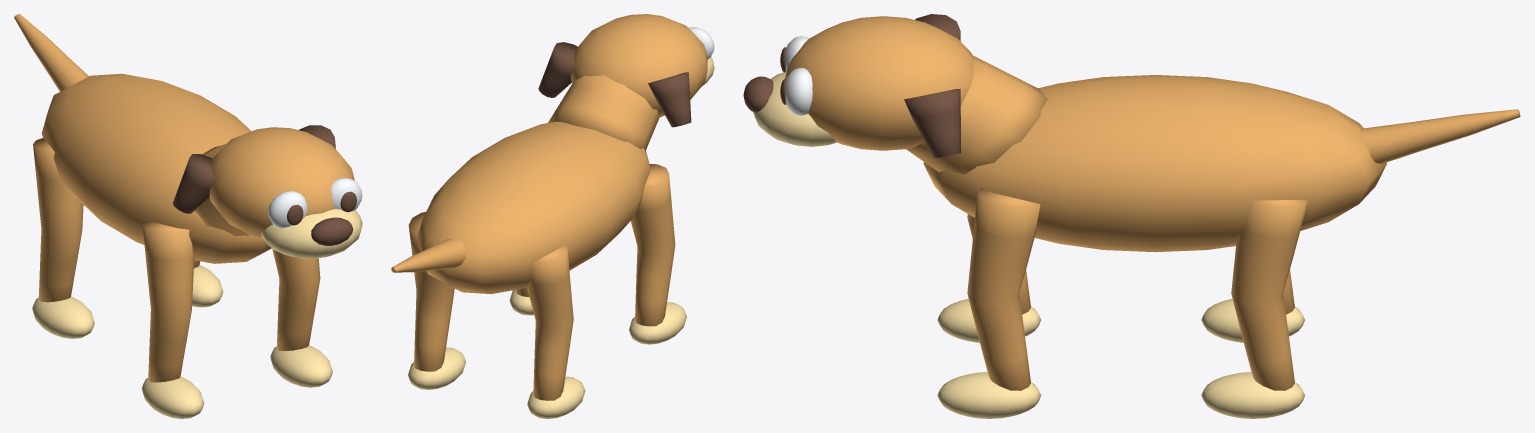
Rendered from demo-quadruped-retarget-input.glb.
The picture shows the model from 3 angles, left to right: view 1: azimuth 30°, elevation 25°; view 2: azimuth 150°, elevation 25°; view 3: azimuth 270°, elevation 25°; orthographic projection. The views are drawn at different scales.
Visible parts, largest first — view 1: body-mesh, head-mesh, leg-front.left, leg-rear.left, leg-front.right, muzzle, paw-rear.left, paw-front.left, paw-front.right, tail-mesh, ear-left, paw-rear.right (+5 smaller); view 2: body-mesh, head-mesh, leg-rear.left, leg-front.left, neck-mesh, leg-rear.right, ear-left, tail-mesh, ear-right, paw-rear.left, paw-front.left, paw-rear.right (+2 smaller); view 3: body-mesh, head-mesh, leg-front.right, leg-rear.right, neck-mesh, tail-mesh, paw-front.right, paw-rear.right, ear-right, muzzle, paw-rear.left, paw-front.left (+2 smaller).
Boxes of the visible parts, <box> form: body-mesh: <box>41,73,271,263</box>; head-mesh: <box>209,127,354,239</box>; leg-front.left: <box>142,220,194,382</box>; leg-rear.left: <box>33,137,83,302</box>; leg-front.right: <box>272,248,320,351</box>; muzzle: <box>261,209,362,258</box>; paw-rear.left: <box>32,296,94,338</box>; paw-front.left: <box>141,376,204,418</box>; paw-front.right: <box>270,345,332,387</box>; tail-mesh: <box>14,14,88,91</box>; ear-left: <box>172,154,215,213</box>; paw-rear.right: <box>192,265,223,307</box>; body-mesh: <box>417,121,650,294</box>; head-mesh: <box>570,14,707,117</box>; leg-rear.left: <box>527,244,573,400</box>; leg-front.left: <box>631,164,675,326</box>; neck-mesh: <box>548,75,659,150</box>; leg-rear.right: <box>408,212,454,371</box>; ear-left: <box>648,72,691,127</box>; tail-mesh: <box>391,238,465,272</box>; ear-right: <box>538,42,577,97</box>; paw-rear.left: <box>527,376,585,418</box>; paw-front.left: <box>629,302,686,344</box>; paw-rear.right: <box>408,347,465,389</box>; body-mesh: <box>923,75,1386,252</box>; head-mesh: <box>785,16,973,150</box>; leg-front.right: <box>967,188,1040,390</box>; leg-rear.right: <box>1231,200,1307,390</box>; neck-mesh: <box>906,55,1047,174</box>; tail-mesh: <box>1360,109,1520,163</box>; paw-front.right: <box>937,372,1041,418</box>; paw-rear.right: <box>1201,372,1304,418</box>; ear-right: <box>904,88,960,157</box>; muzzle: <box>753,72,837,146</box>; paw-rear.left: <box>1201,298,1304,342</box>; paw-front.left: <box>937,298,1040,342</box>.
Bounding box in the file's own units: 0.533 × 0.8496 × 1.71.
